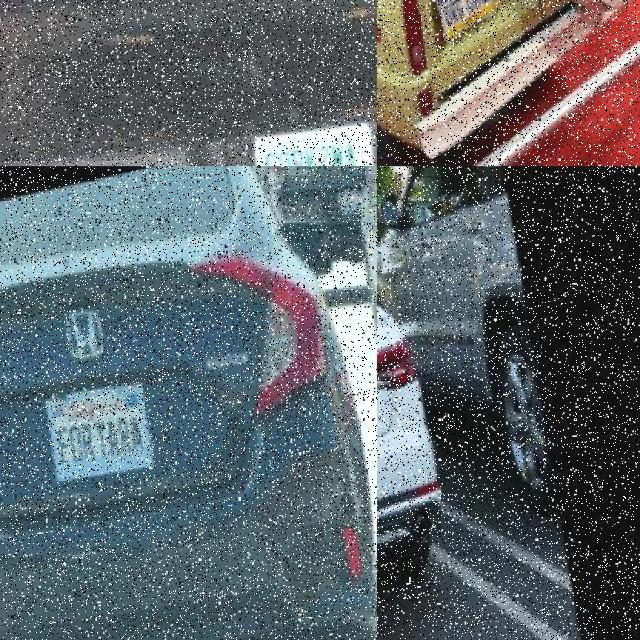licenseplate: (44, 373, 165, 485), (256, 122, 377, 166), (377, 372, 415, 448), (442, 0, 501, 43), (336, 183, 366, 215)
